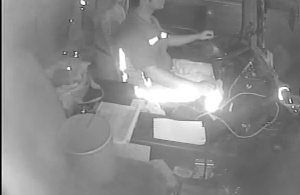paper: (150, 116, 206, 147)
